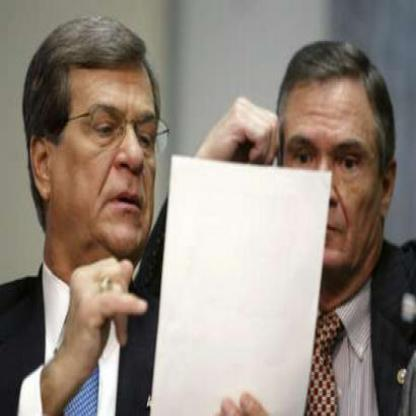face: (49, 25, 175, 263), (279, 50, 387, 280)
